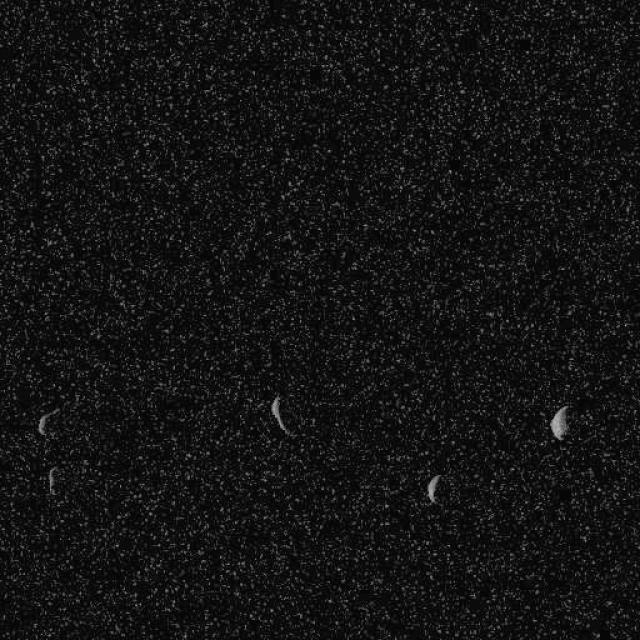D2: (268, 393, 292, 438), (549, 404, 571, 440), (36, 406, 60, 436), (424, 472, 441, 503), (45, 465, 57, 495)
